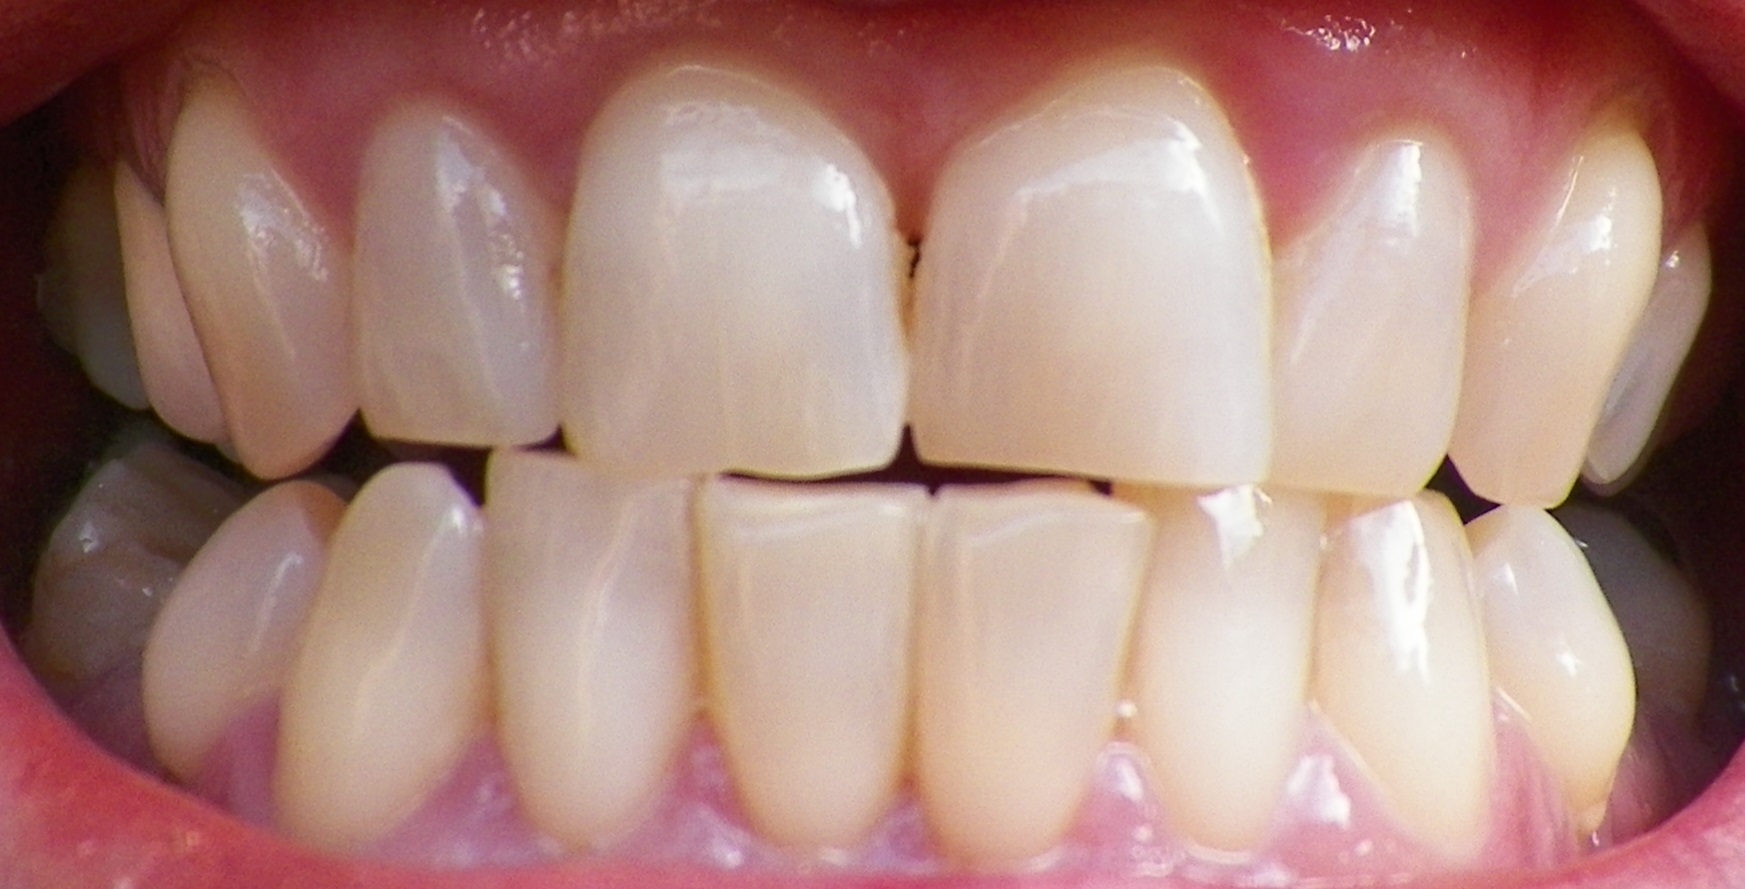boca: (35, 85, 1733, 856)
